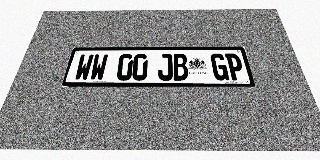0: (116, 54, 133, 81), (132, 54, 148, 81)
B: (173, 54, 189, 80)
G: (210, 53, 230, 80)
J: (158, 54, 173, 80)
P: (225, 53, 246, 80)
W: (73, 54, 94, 81), (89, 54, 108, 81)
